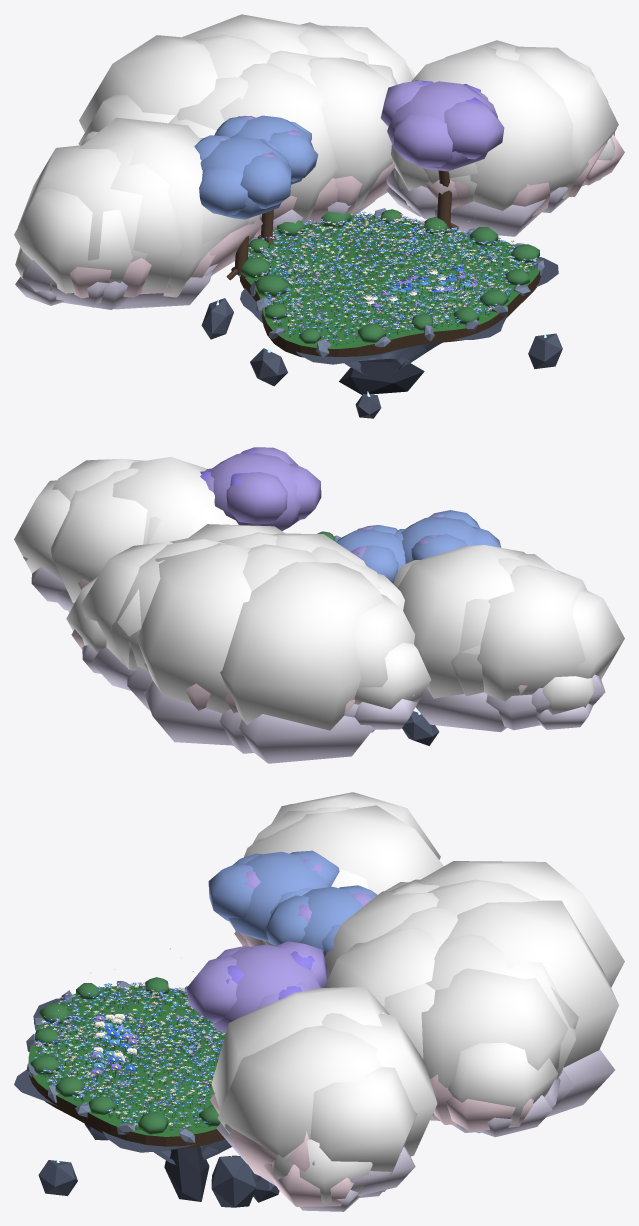
File: blue-flower-garden-complete.glb
3 views of the same model, one above another, from view 1: azimuth 30°, elevation 25°; view 2: azimuth 150°, elevation 25°; view 3: azimuth 270°, elevation 25° (orthographic). The views are drawn at different scales.
Visible parts, largest first — view 1: DreamyClouds_cloudWhite, IslandTerrain_meadowGrass, FloweringTrees_treeBlossomBlue, FloweringTrees_treeBlossomLila, DreamyClouds_cloudLavender, DreamyClouds_cloudPink, GardenShrubs_shrubGreen, DenseFlowerMeadow_darkLeaf, DenseFlowerMeadow_stemGreen, DenseFlowerMeadow_flowerCyan, DenseFlowerMeadow_flowerBlue1, IslandTerrain_meadowSoil (+13 smaller); view 2: DreamyClouds_cloudWhite, DreamyClouds_cloudLavender, FloweringTrees_treeBlossomLila, FloweringTrees_treeBlossomBlue, DreamyClouds_cloudPink, FloatingRock_2_rockSurface; view 3: DreamyClouds_cloudWhite, IslandTerrain_meadowGrass, FloweringTrees_treeBlossomBlue, FloweringTrees_treeBlossomLila, DreamyClouds_cloudPink, DreamyClouds_cloudLavender, GardenShrubs_shrubGreen, DenseFlowerMeadow_darkLeaf, DenseFlowerMeadow_stemGreen, DenseFlowerMeadow_flowerCyan, DenseFlowerMeadow_flowerBlue1, IslandTerrain_meadowSoil (+12 smaller).
Part boxes in pixels (left/top/right/bottom): DreamyClouds_cloudWhite: left=14, top=14, right=618, bottom=297; IslandTerrain_meadowGrass: left=245, top=214, right=539, bottom=348; FloweringTrees_treeBlossomBlue: left=194, top=115, right=318, bottom=219; FloweringTrees_treeBlossomLila: left=220, top=80, right=504, bottom=171; DreamyClouds_cloudLavender: left=15, top=168, right=601, bottom=309; DreamyClouds_cloudPink: left=70, top=128, right=624, bottom=298; GardenShrubs_shrubGreen: left=241, top=209, right=539, bottom=343; DenseFlowerMeadow_darkLeaf: left=248, top=217, right=534, bottom=345; DenseFlowerMeadow_stemGreen: left=248, top=213, right=535, bottom=345; DenseFlowerMeadow_flowerCyan: left=248, top=211, right=537, bottom=339; DenseFlowerMeadow_flowerBlue1: left=250, top=212, right=533, bottom=339; IslandTerrain_meadowSoil: left=239, top=271, right=540, bottom=357; DreamyClouds_cloudWhite: left=14, top=457, right=624, bottom=730; DreamyClouds_cloudLavender: left=31, top=566, right=605, bottom=763; FloweringTrees_treeBlossomLila: left=205, top=447, right=443, bottom=557; FloweringTrees_treeBlossomBlue: left=333, top=510, right=501, bottom=583; DreamyClouds_cloudPink: left=23, top=556, right=527, bottom=715; FloatingRock_2_rockSurface: left=402, top=711, right=439, bottom=745; DreamyClouds_cloudWhite: left=211, top=792, right=624, bottom=1203; IslandTerrain_meadowGrass: left=28, top=985, right=225, bottom=1136; FloweringTrees_treeBlossomBlue: left=208, top=850, right=377, bottom=956; FloweringTrees_treeBlossomLila: left=186, top=859, right=372, bottom=1033; DreamyClouds_cloudPink: left=210, top=931, right=533, bottom=1206; DreamyClouds_cloudLavender: left=216, top=1049, right=614, bottom=1211; GardenShrubs_shrubGreen: left=30, top=977, right=220, bottom=1134; DenseFlowerMeadow_darkLeaf: left=35, top=987, right=224, bottom=1130; DenseFlowerMeadow_stemGreen: left=34, top=984, right=222, bottom=1130; DenseFlowerMeadow_flowerCyan: left=34, top=983, right=225, bottom=1124; DenseFlowerMeadow_flowerBlue1: left=35, top=982, right=223, bottom=1123; IslandTerrain_meadowSoil: left=28, top=1061, right=224, bottom=1149.
Bounding box in the file's own units: 39.89 × 17.16 × 32.29.
